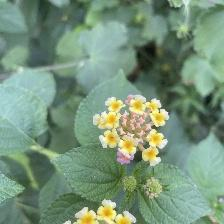common lanthana: (91, 91, 177, 167)
